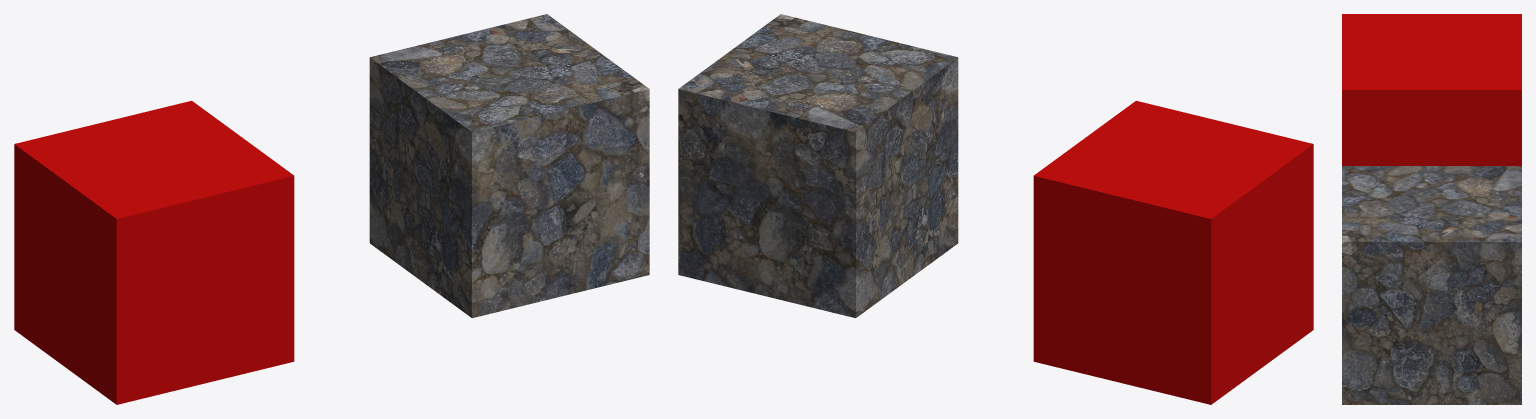
The model's file is Combine2.obj.
The picture shows the model from 3 angles, left to right: view 1: azimuth 30°, elevation 25°; view 2: azimuth 150°, elevation 25°; view 3: azimuth 270°, elevation 25°; orthographic projection. The views are drawn at different scales.
Parts seen in each view (by area): view 1: Combine2.001_Combine2.001_Pebble.001, Combine2.001_Combine2.001_Material.002; view 2: Combine2.001_Combine2.001_Pebble.001, Combine2.001_Combine2.001_Material.002; view 3: Combine2.001_Combine2.001_Pebble.001, Combine2.001_Combine2.001_Material.002.
Boxes of the visible parts, x1,y1,x2,y2 form: Combine2.001_Combine2.001_Pebble.001: [369, 14, 649, 318]; Combine2.001_Combine2.001_Material.002: [14, 100, 294, 404]; Combine2.001_Combine2.001_Pebble.001: [678, 14, 958, 318]; Combine2.001_Combine2.001_Material.002: [1033, 100, 1313, 404]; Combine2.001_Combine2.001_Pebble.001: [1342, 166, 1521, 404]; Combine2.001_Combine2.001_Material.002: [1342, 14, 1521, 165].
Size of the model in its own units: 6 by 2 by 2.
